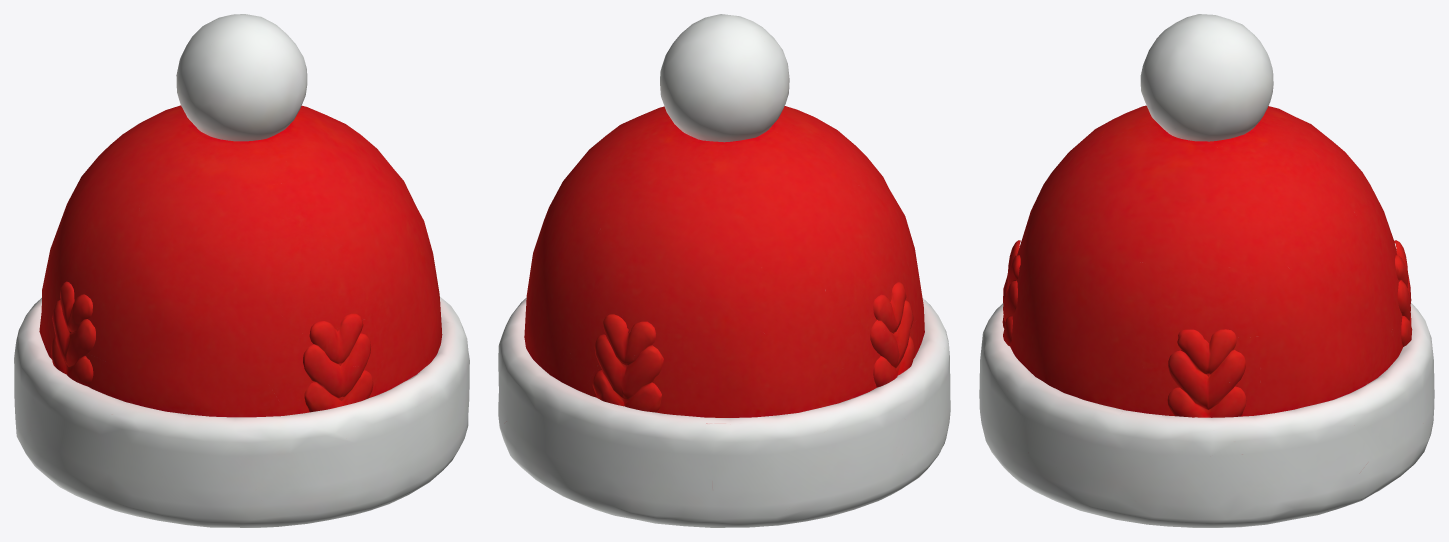
File: hat_beanie.glb
3 views of the same model, side by side, from view 1: azimuth 30°, elevation 25°; view 2: azimuth 150°, elevation 25°; view 3: azimuth 270°, elevation 25° (orthographic).
Visible parts, largest first — view 1: geometry_0; view 2: geometry_0; view 3: geometry_0.
Boxes of the visible parts, x1=… form: geometry_0: x1=14, y1=14, x2=469, y2=527; geometry_0: x1=498, y1=14, x2=950, y2=527; geometry_0: x1=979, y1=14, x2=1434, y2=527.
Size of the model in its own units: 0.9297 by 0.9507 by 0.9331.
Materials: 1 (1 with a texture image).
